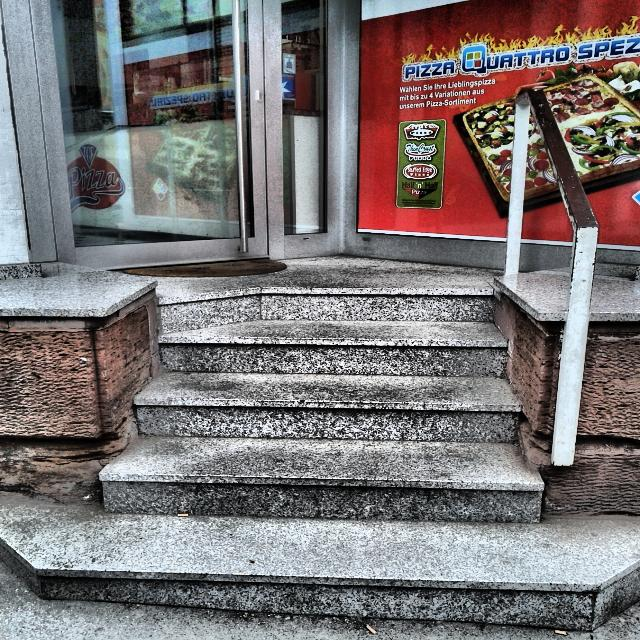escada: (19, 289, 640, 628)
